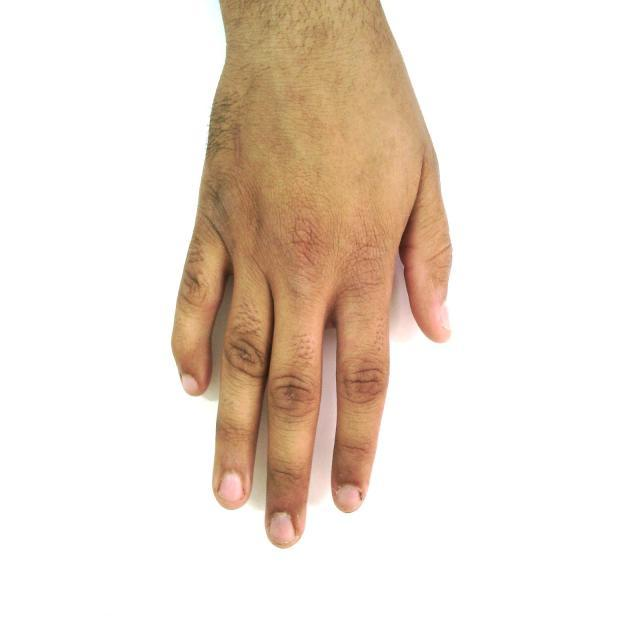Fingernail: (269, 513, 295, 545), (220, 473, 242, 503), (337, 486, 361, 511), (440, 300, 451, 331), (183, 375, 199, 394)
